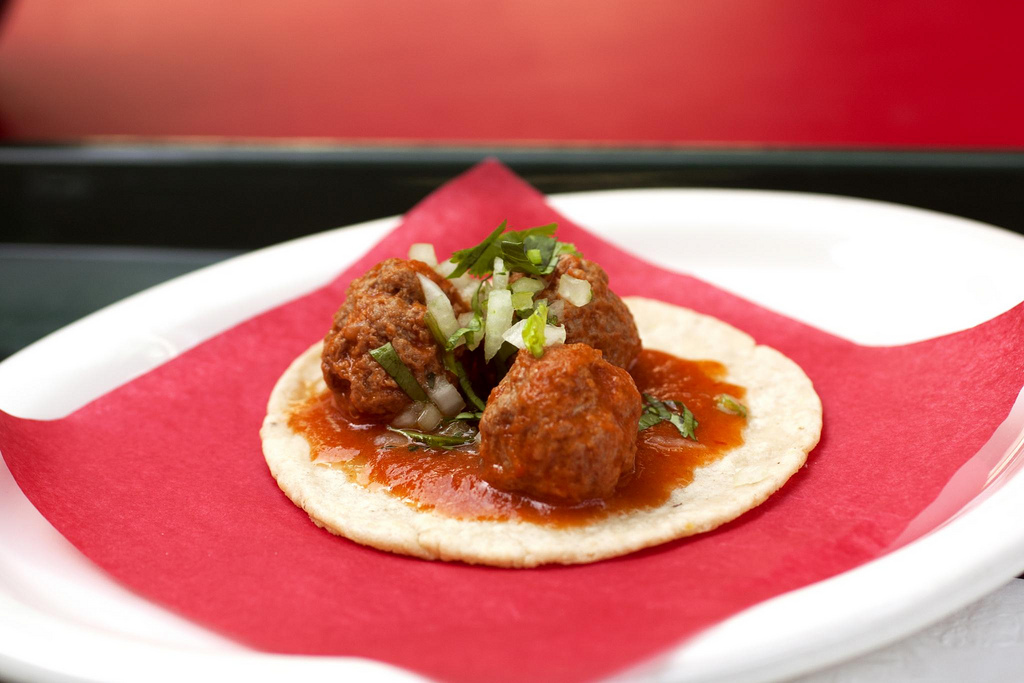chopped lettuce: (436, 216, 535, 381)
meatballs: (489, 339, 626, 500), (332, 267, 449, 420), (531, 262, 651, 379)
